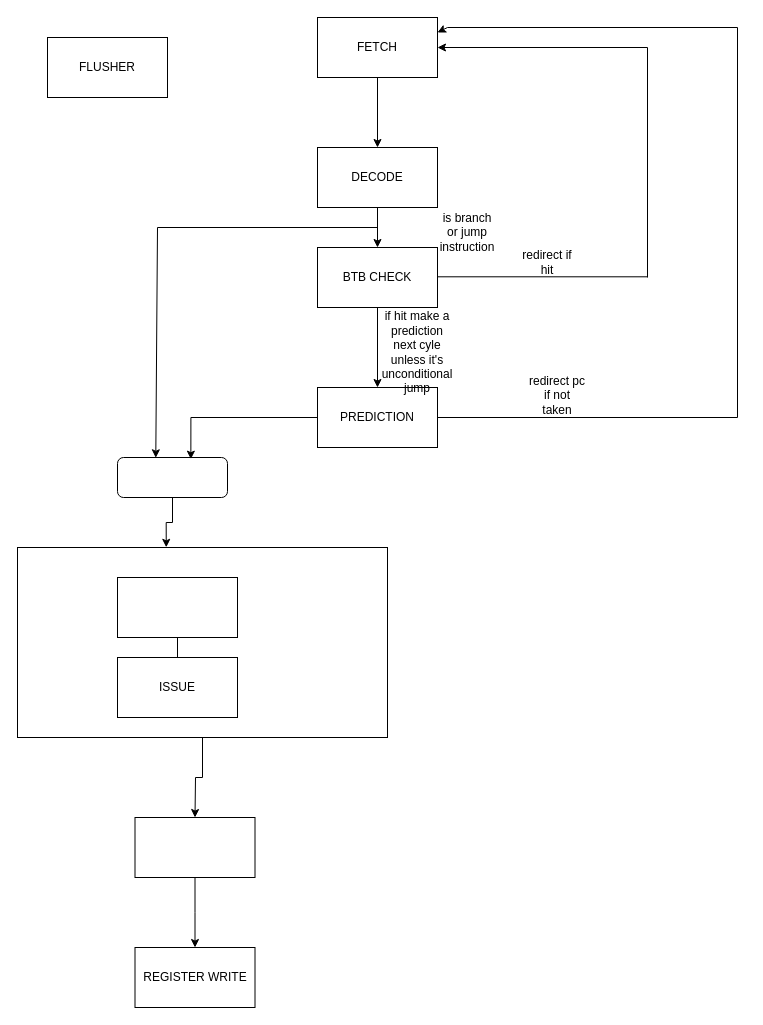
Some shapes in this 763 by 1025 pixel diagram are drawn without their labels. Each missing label, with the box of its shape:
MEMORY: (134, 816, 255, 878)
mux: (116, 456, 228, 498)
REGISTER READ(SYNC): (116, 576, 238, 638)
